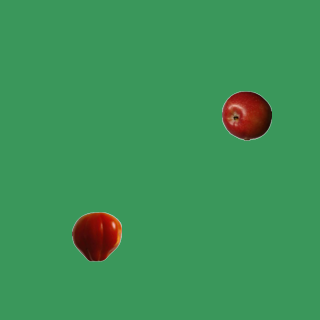Apple Braeburn: (221, 90, 271, 140)
Tomato 1: (71, 211, 121, 261)
